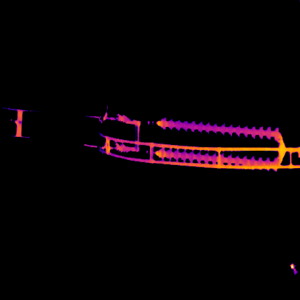insulator: (153, 113, 281, 143), (152, 145, 281, 171)
